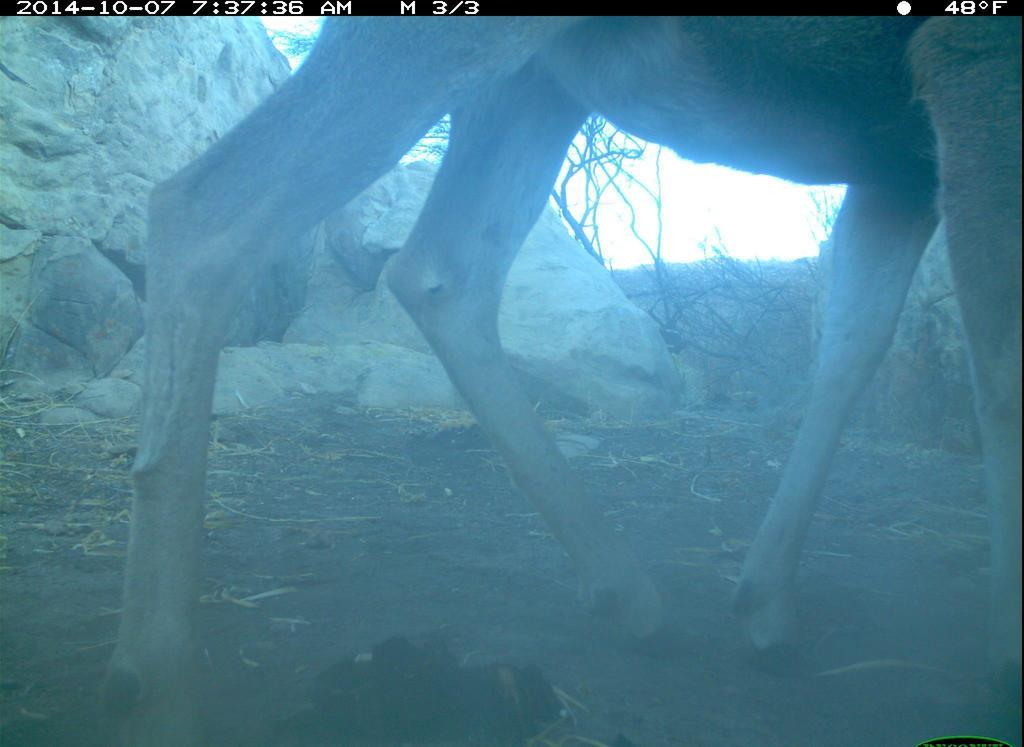deer: (81, 13, 1023, 745)
